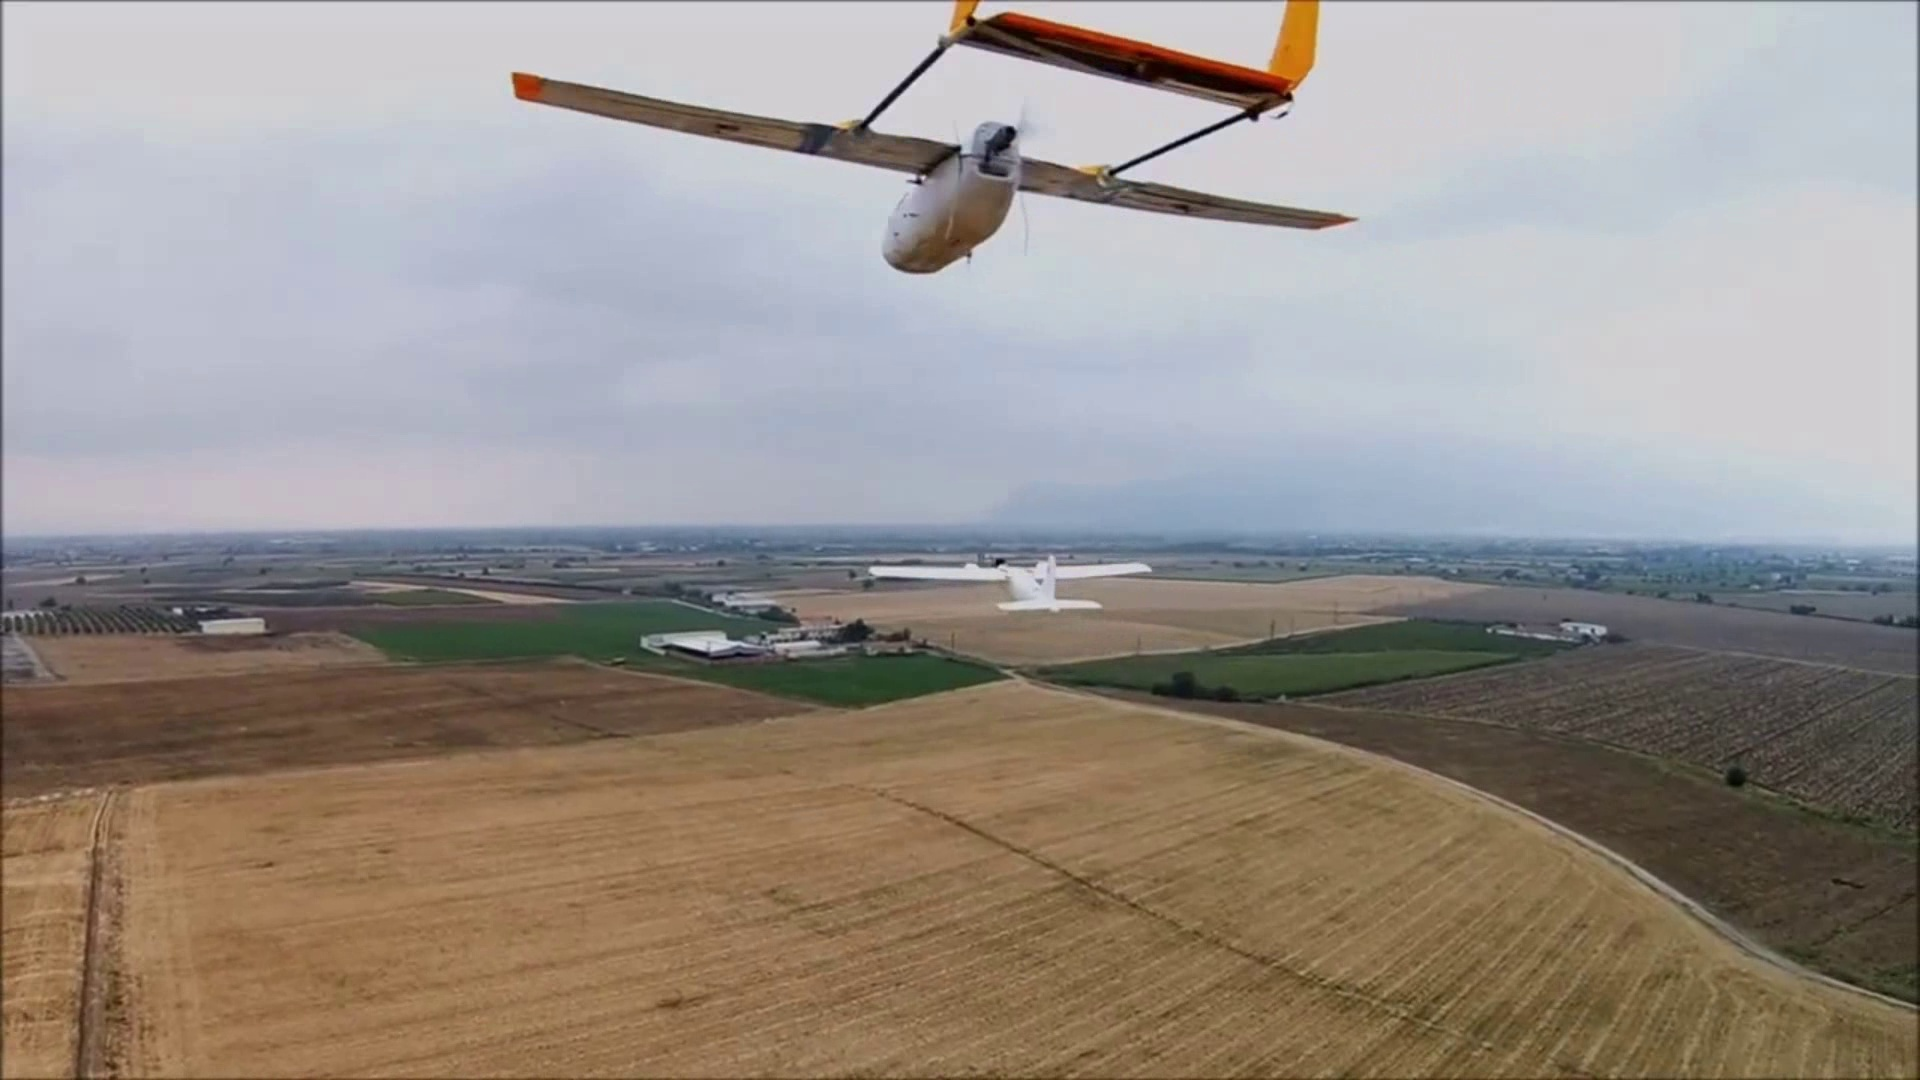airplane: (510, 4, 1359, 272)
